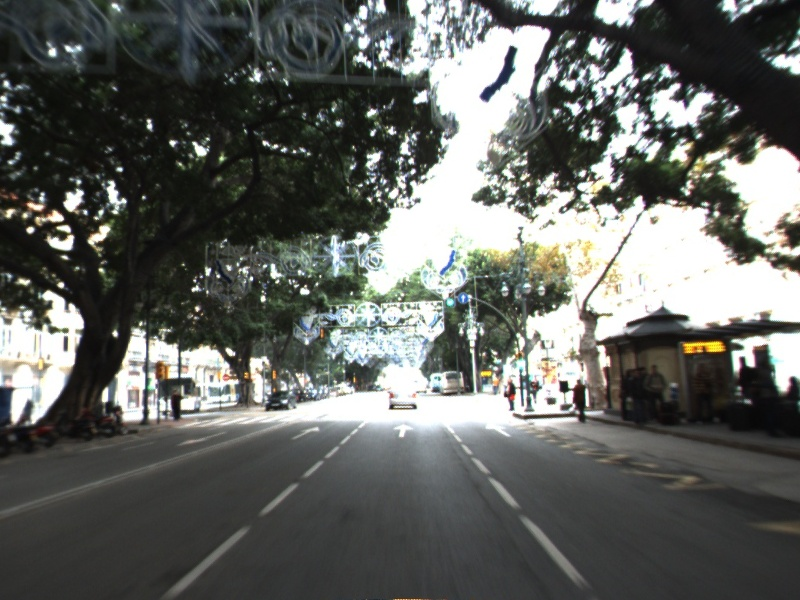STRAIGHT: (288, 424, 321, 442), (482, 421, 514, 439), (390, 421, 417, 439)
